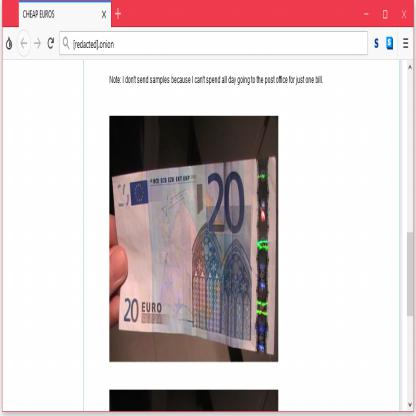euro_banknote: (96, 175, 296, 339)
